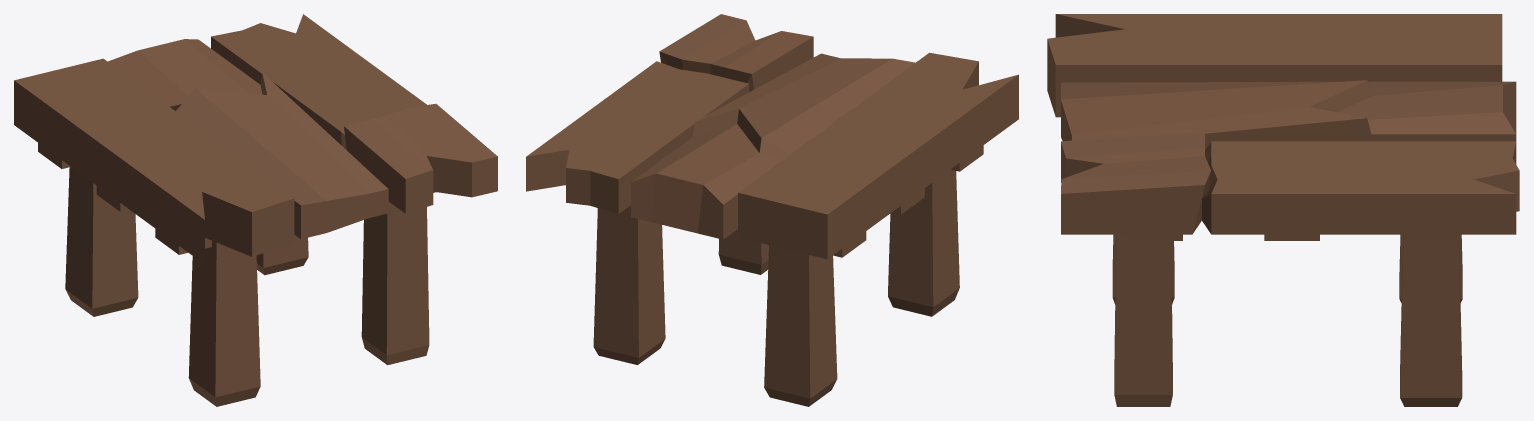
File: SM_small_seat.fbx
3 renders of one model, left to right at view 1: azimuth 30°, elevation 25°; view 2: azimuth 150°, elevation 25°; view 3: azimuth 270°, elevation 25°, orthographic. The views are drawn at different scales.
Visible parts, largest first — view 1: small_seat; view 2: small_seat; view 3: small_seat.
Boxes of the visible parts, x1,y1,x2,y2 form: small_seat: [14, 14, 497, 406]; small_seat: [526, 14, 1018, 406]; small_seat: [1047, 14, 1519, 406].
Size of the model in its own units: 65.14 by 46.21 by 77.2.
